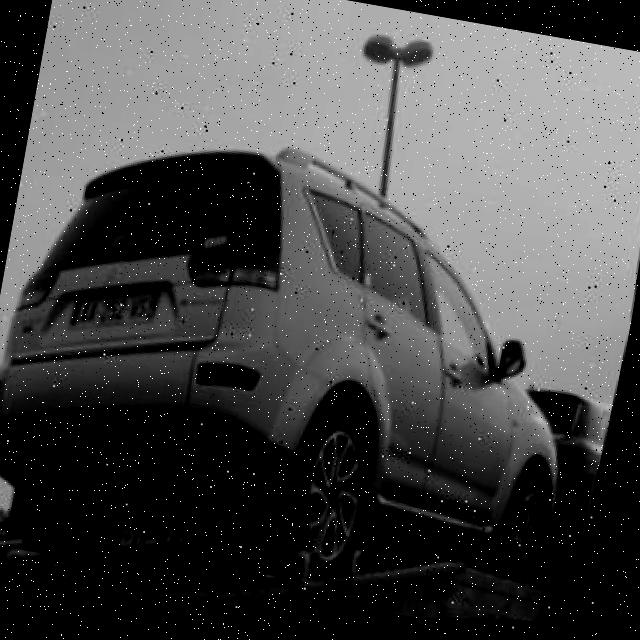Autre: (66, 285, 168, 330)
